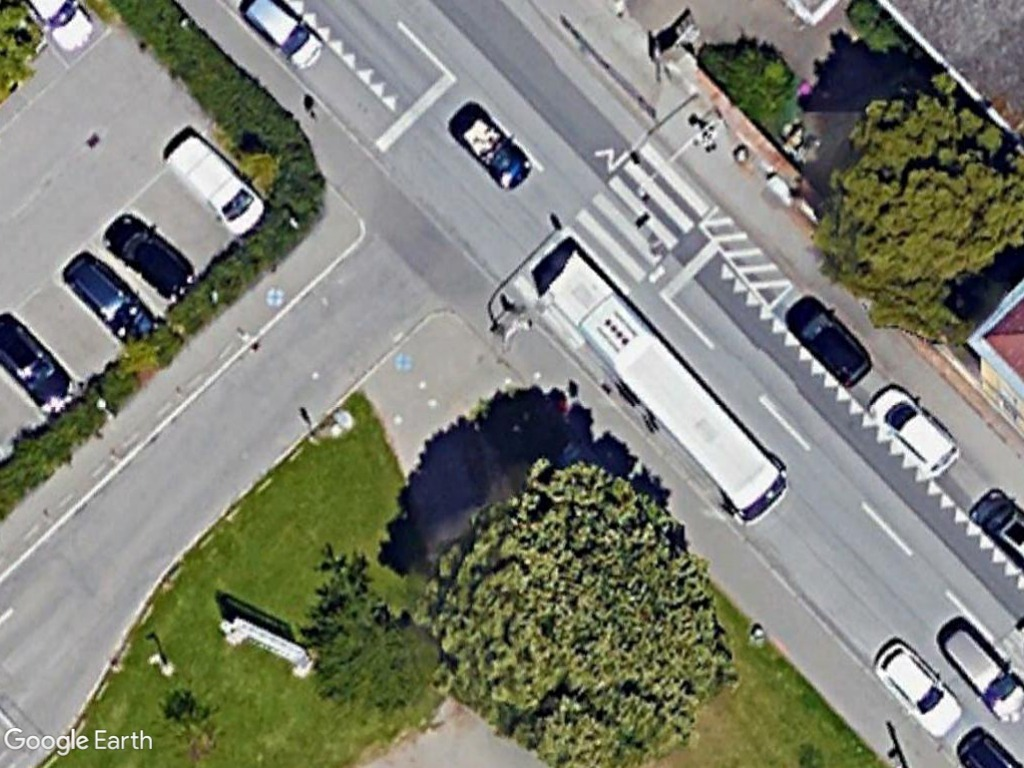bus: (537, 249, 797, 530)
car: (52, 243, 157, 347), (776, 289, 877, 394), (861, 381, 965, 480), (867, 638, 964, 738), (94, 210, 200, 300), (939, 621, 1024, 725)
van: (159, 131, 268, 239)
